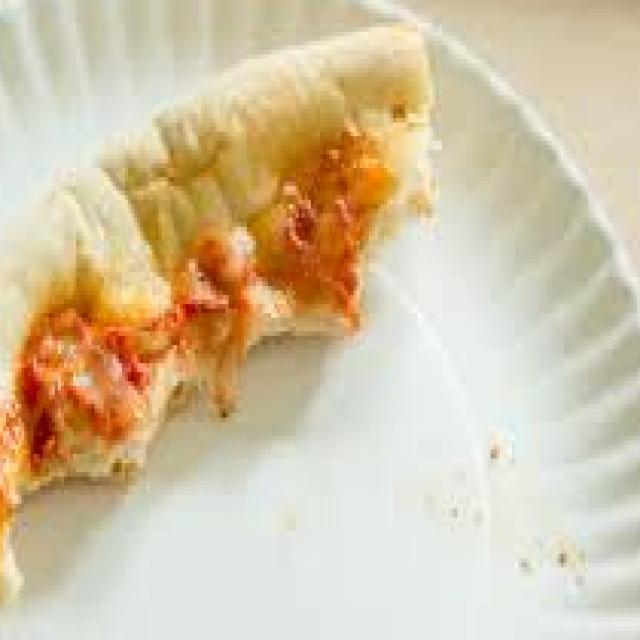inorganic: (1, 12, 446, 570)
